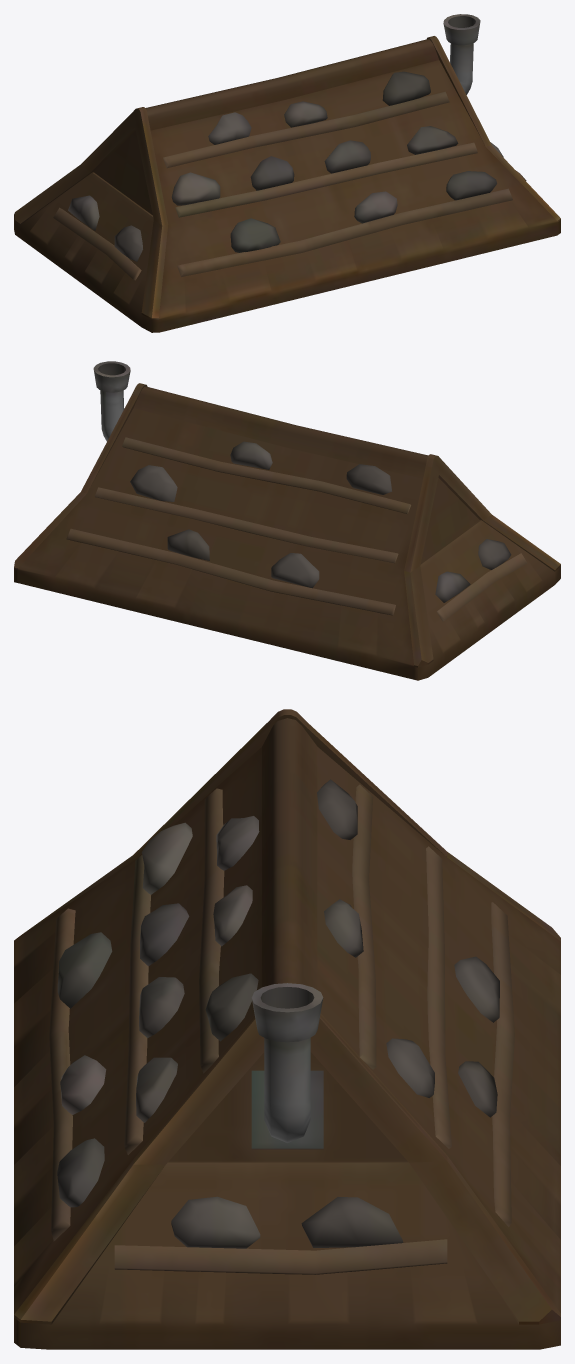
File: roof-nc-stoneweight.glb
3 views of the same model, one above another, from view 1: azimuth 30°, elevation 25°; view 2: azimuth 150°, elevation 25°; view 3: azimuth 270°, elevation 25° (orthographic). The views are drawn at different scales.
Size of the model in its own units: 39.6 by 15.36 by 23.58.
1 material, 1 textured.
